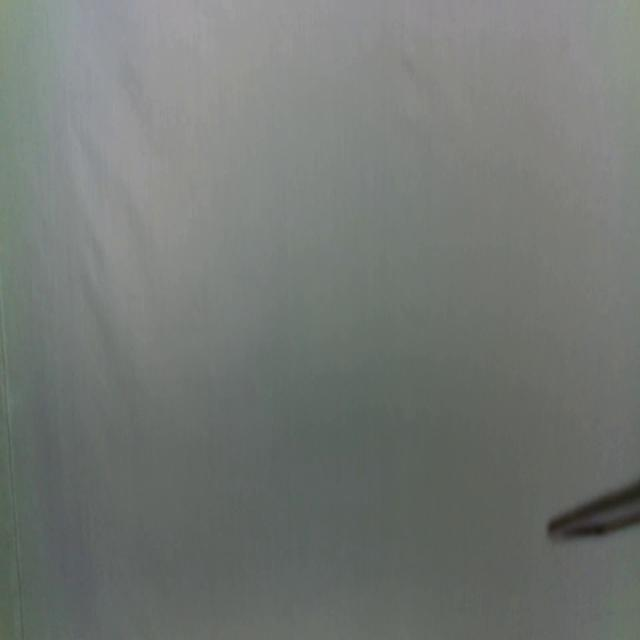crease: (0, 308, 24, 640)
